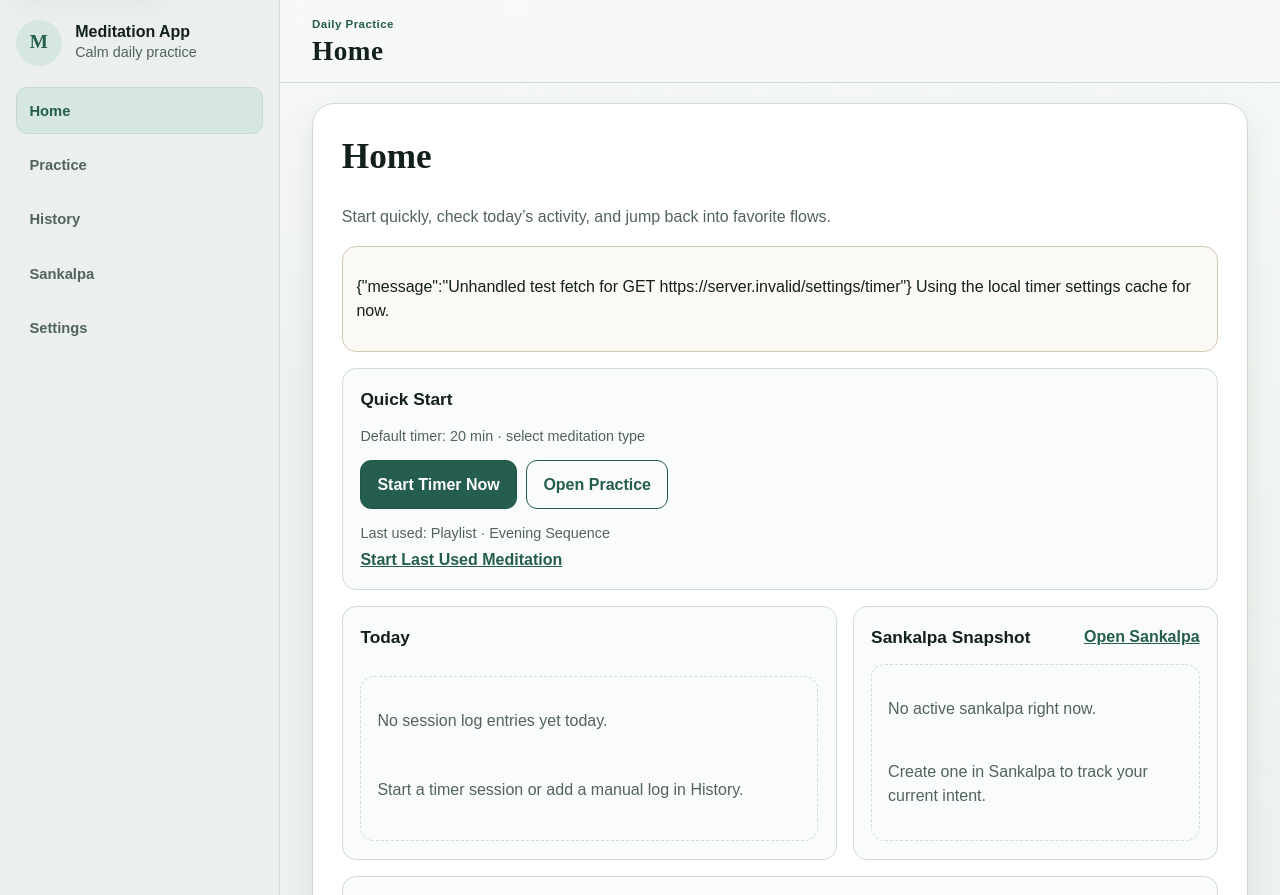
Scenario: HomePage UX › starts the last used playlist shortcut from Home
Expected: the text "Last used: Playlist · Evening Sequence" is shown, [360,524,610,540]
Click the button "Start Last Used Meditation": [461, 560] box [360,548,562,572]
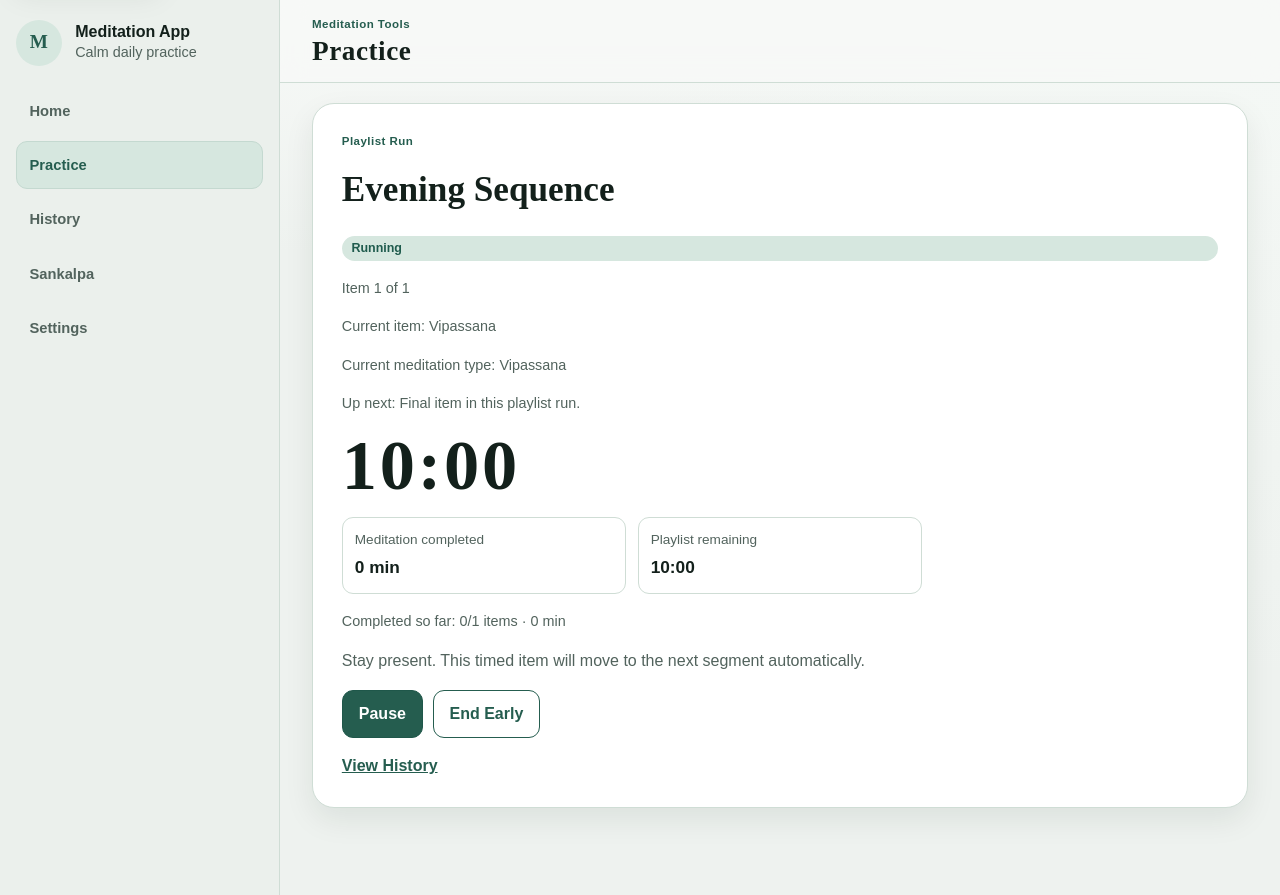
Expected: the heading "Evening Sequence" is shown, [342,170,615,209]
Expected: the text "Item 1 of 1" is shown, [342,280,410,296]
